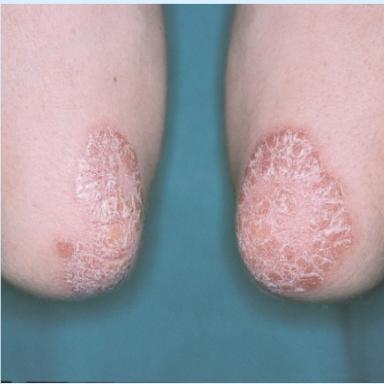Psoriasis: (236, 129, 352, 296), (57, 127, 143, 295)
